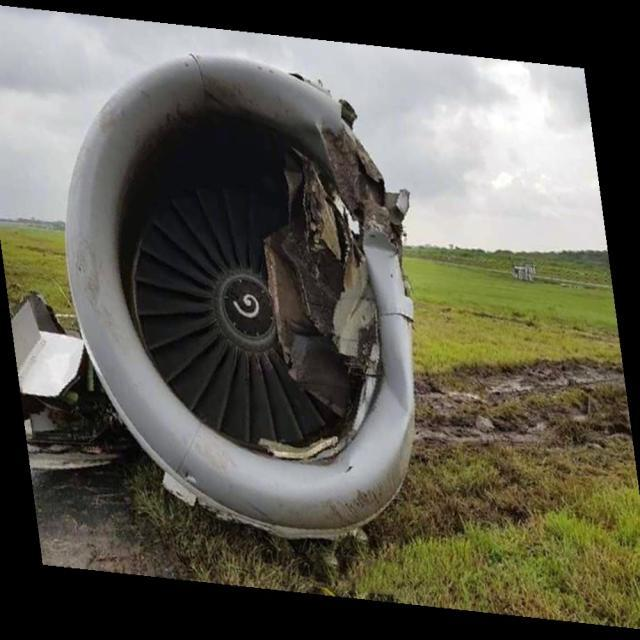dent: (386, 338, 417, 481), (366, 233, 401, 287)
